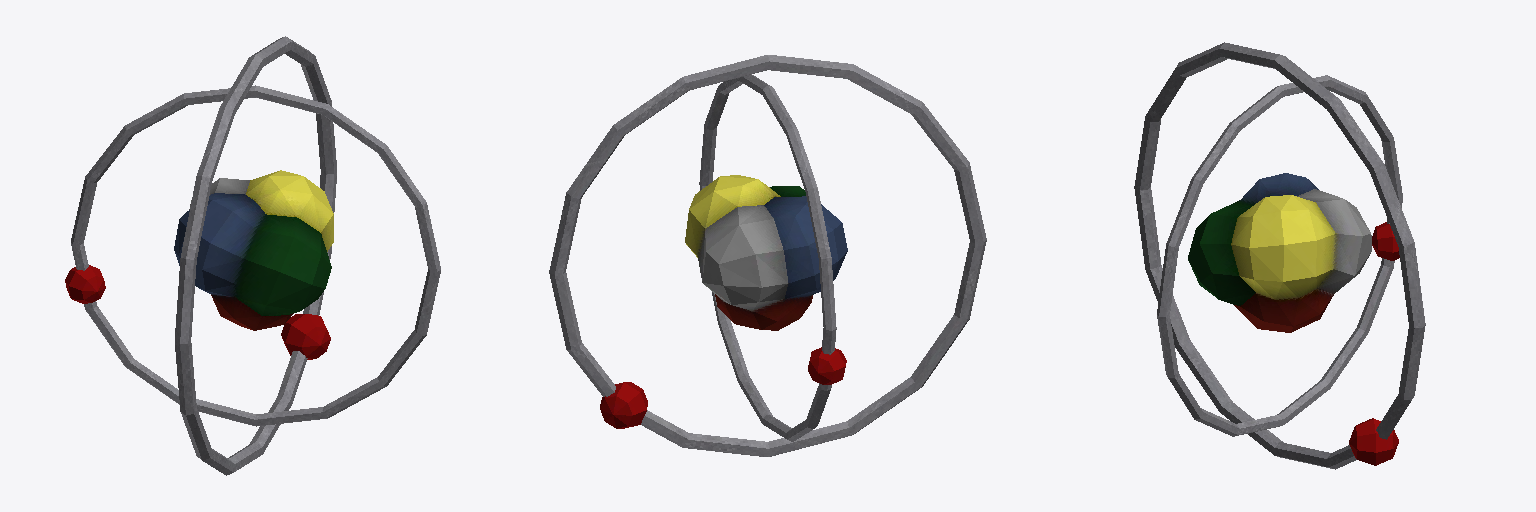
The picture shows the model from 3 angles: view 1: azimuth 30°, elevation 25°; view 2: azimuth 150°, elevation 25°; view 3: azimuth 270°, elevation 25°; orthographic projection.
Parts seen in each view (by area): view 1: unwrapped2, Object09, Object10, Object12, Object11; view 2: Object09, unwrapped2, Object10, Object12, Object11; view 3: unwrapped2, Object09, Object10, Object12, Object11.
Part boxes in pixels (x1,y1,x2,y2): unwrapped2: (174, 170, 333, 330); Object09: (175, 36, 336, 475); Object10: (71, 85, 440, 426); Object12: (281, 314, 330, 359); Object11: (65, 265, 105, 303); Object09: (549, 55, 986, 456); unwrapped2: (685, 175, 847, 330); Object10: (699, 74, 836, 441); Object12: (600, 382, 647, 428); Object11: (808, 347, 846, 384); unwrapped2: (1188, 173, 1371, 332); Object09: (1134, 42, 1425, 469); Object10: (1157, 75, 1402, 436); Object12: (1349, 418, 1398, 465); Object11: (1372, 222, 1399, 260).
Size of the model in its own units: 27.27 by 35.32 by 23.15.
Materials: 1 (1 with a texture image).